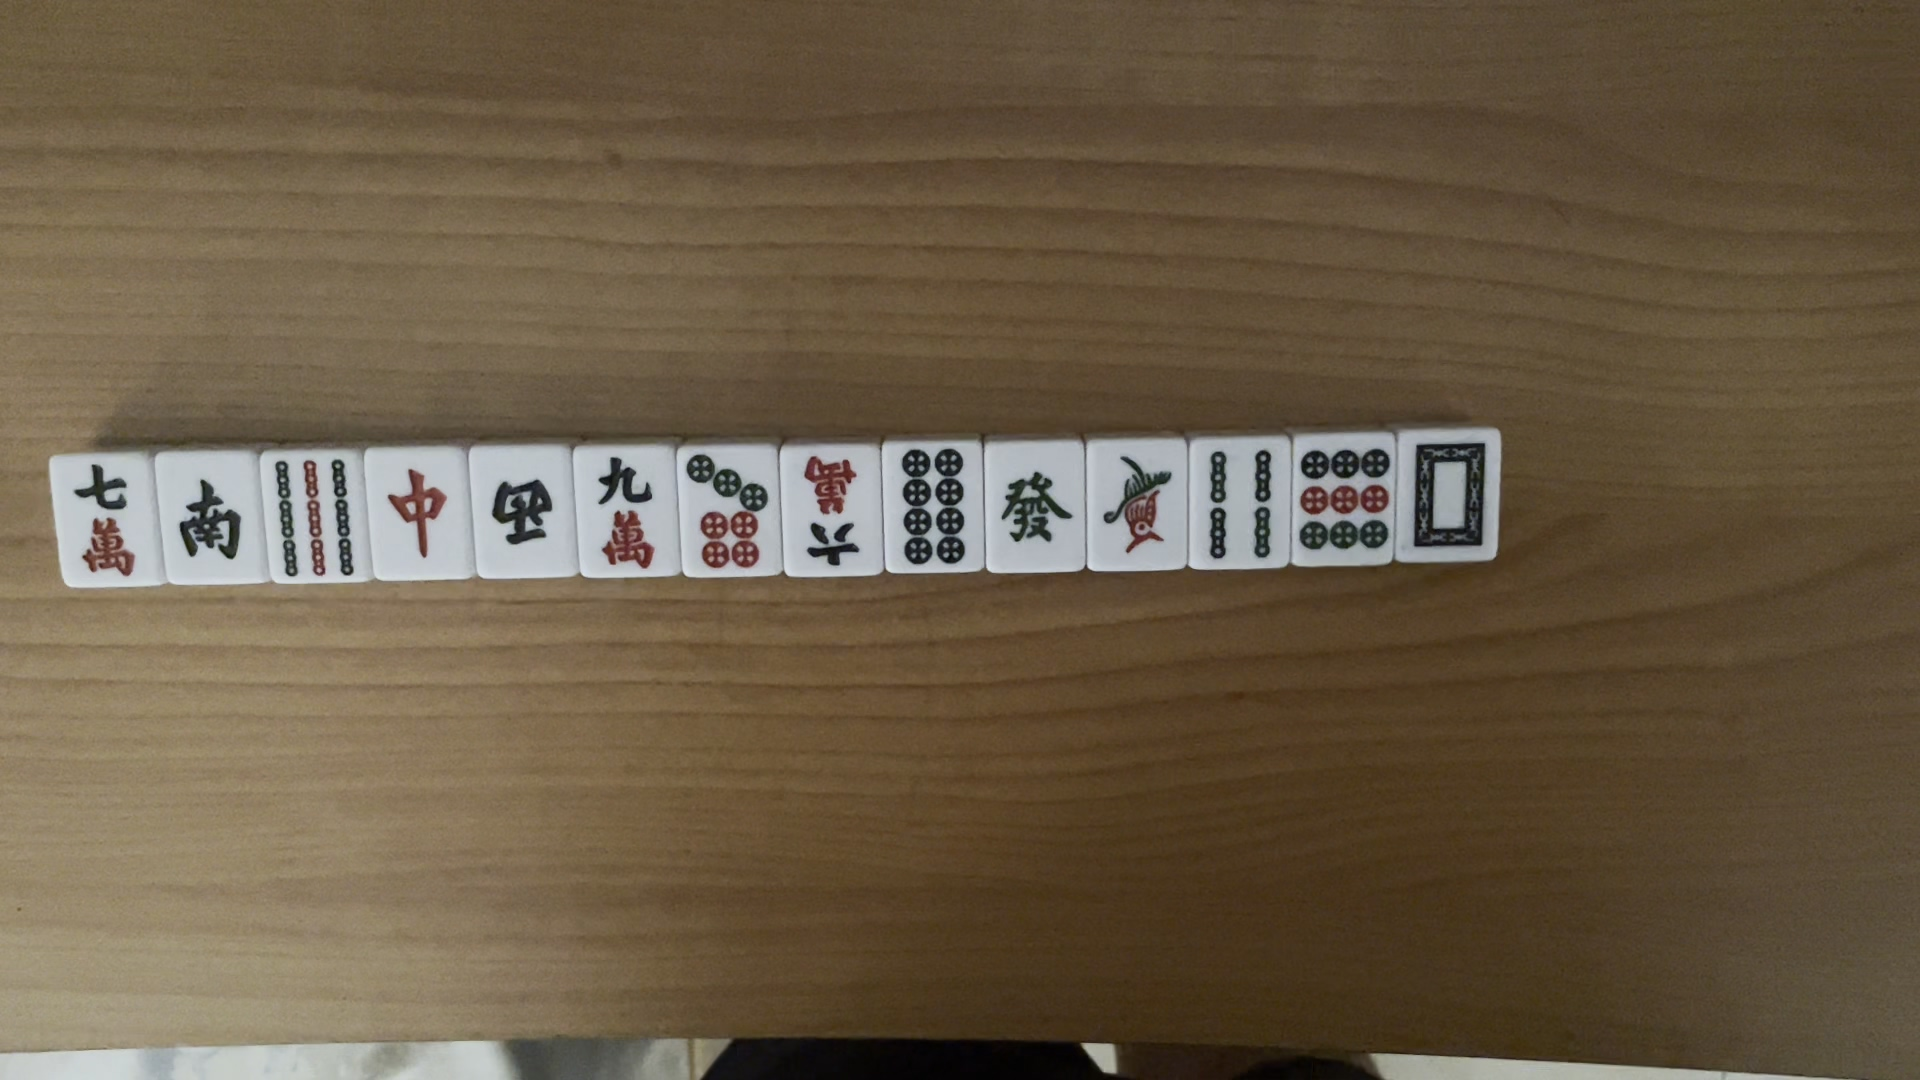b-1: (1102, 450, 1180, 562)
b-4: (1207, 446, 1276, 564)
b-9: (273, 448, 357, 578)
c-6: (800, 456, 866, 572)
c-7: (62, 464, 148, 582)
c-9: (587, 454, 665, 570)
d-7: (683, 454, 773, 574)
d-8: (897, 444, 978, 578)
d-9: (1294, 444, 1396, 560)
honors-green: (996, 460, 1077, 553)
honors-red: (375, 459, 452, 566)
honors-south: (174, 469, 244, 560)
honors-west: (489, 463, 556, 562)
honors-white: (1404, 434, 1491, 556)
